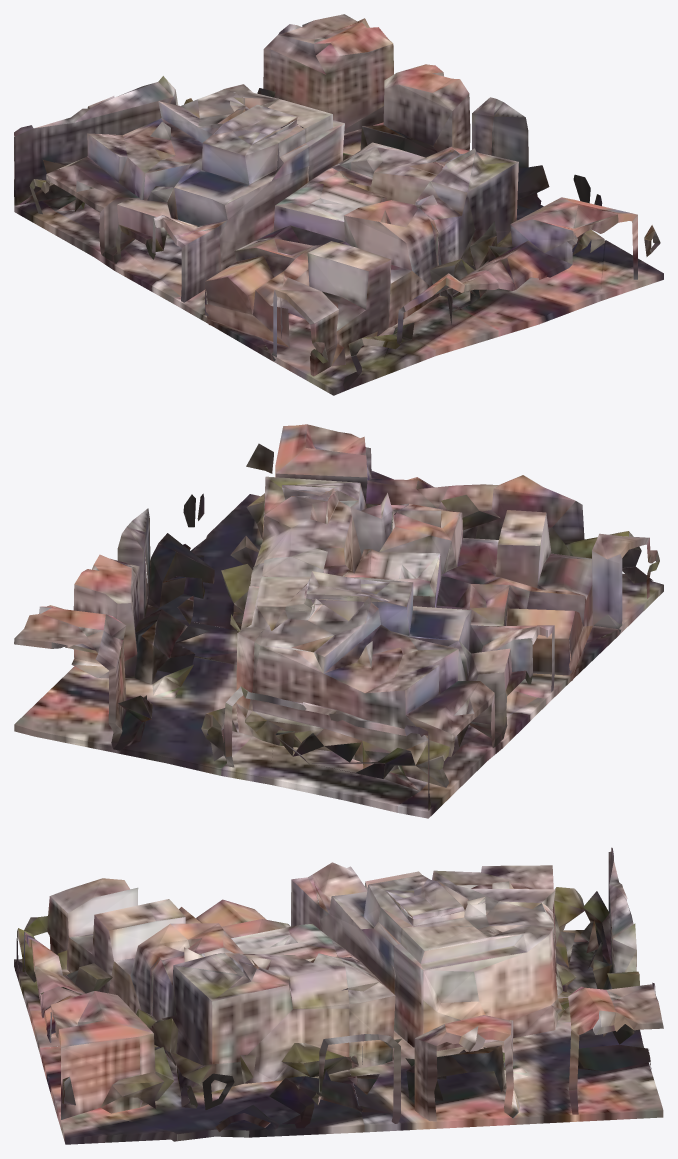
3 renders of one model, top to bottom at view 1: azimuth 30°, elevation 25°; view 2: azimuth 150°, elevation 25°; view 3: azimuth 270°, elevation 25°, orthographic. The views are drawn at different scales.
Parts seen in each view (by area): view 1: Mesh_0; view 2: Mesh_0; view 3: Mesh_0.
Part boxes in pixels (left/top/right/bottom): Mesh_0: left=14, top=14, right=663, bottom=395; Mesh_0: left=14, top=424, right=663, bottom=818; Mesh_0: left=14, top=847, right=663, bottom=1144.
Size of the model in its own units: 133 by 36.03 by 165.
Materials: 1 (1 with a texture image).
